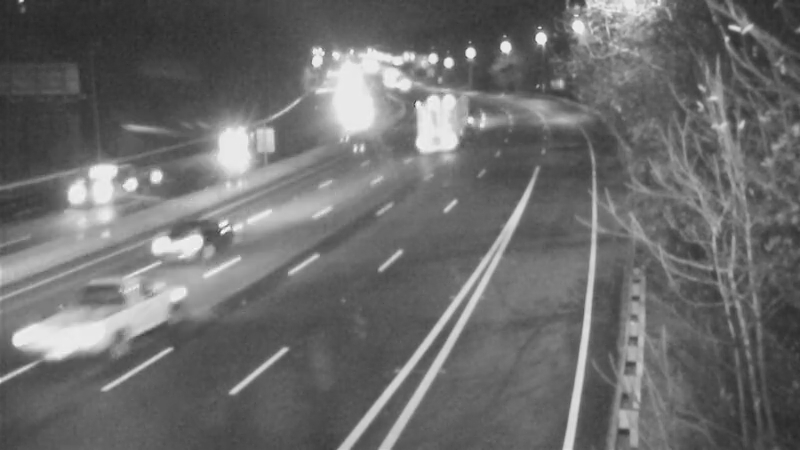vehicle: (10, 271, 120, 381), (141, 209, 221, 289), (60, 149, 140, 229), (409, 88, 459, 138), (204, 117, 254, 167)
